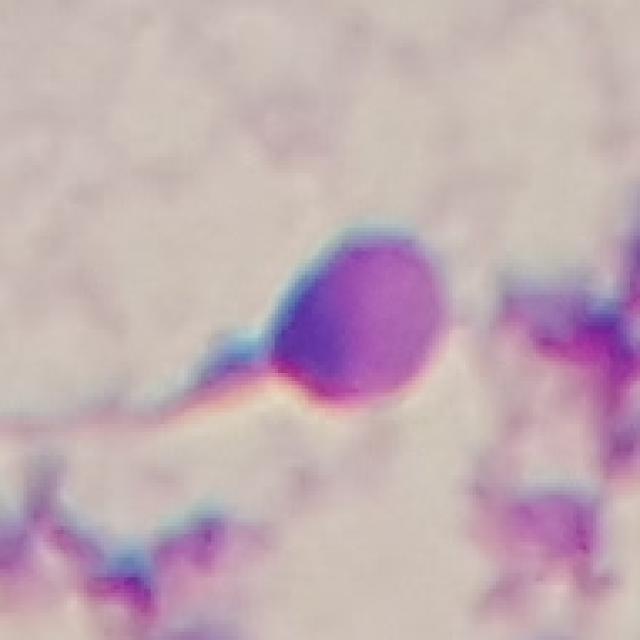normal sperm: (4, 212, 466, 451)
